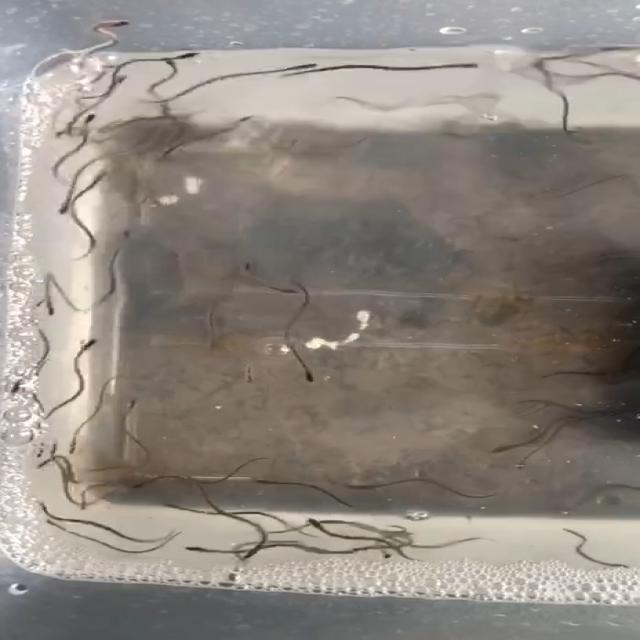inactive_glass_eel: (164, 48, 216, 63), (36, 497, 68, 520), (230, 558, 254, 586), (114, 393, 142, 415), (70, 338, 102, 357), (230, 259, 260, 279), (527, 56, 556, 76), (42, 296, 66, 320), (328, 474, 372, 487), (75, 109, 102, 130), (448, 59, 488, 73), (43, 440, 68, 462), (285, 59, 324, 73), (91, 165, 118, 185), (269, 282, 302, 298), (125, 478, 160, 493), (156, 54, 186, 71), (513, 454, 543, 471), (52, 194, 75, 216), (298, 362, 320, 385), (495, 441, 531, 455), (5, 377, 28, 398), (307, 515, 331, 535), (91, 18, 133, 29), (65, 432, 84, 456), (250, 475, 283, 488), (175, 542, 215, 552), (115, 221, 136, 240), (33, 518, 66, 530), (111, 68, 130, 88), (242, 360, 259, 382), (160, 502, 184, 514), (198, 337, 218, 351)
